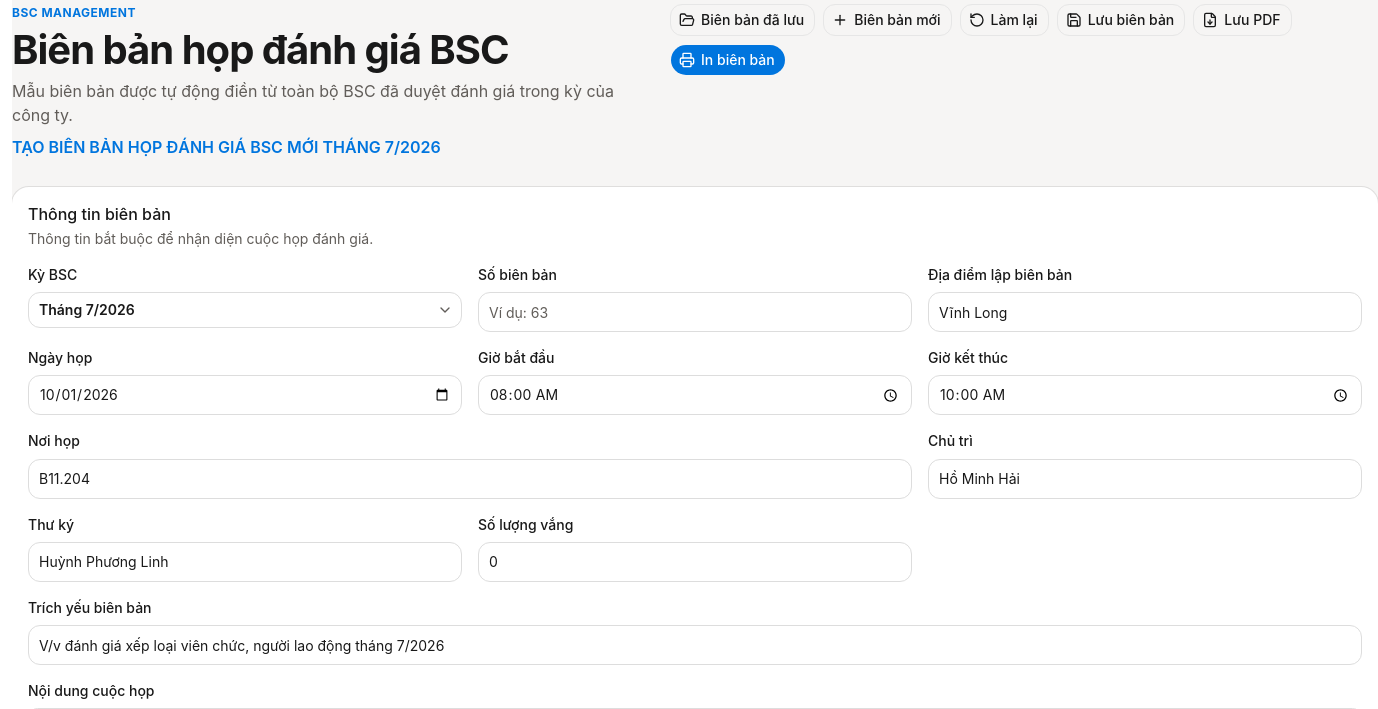
Test case: BscMinutesPage › restores the meeting defaults when resetting the form
Replace the text in the field labelled "Nơi họp" with "Phòng khác". click: (470, 478)
box: [28, 458, 912, 498]
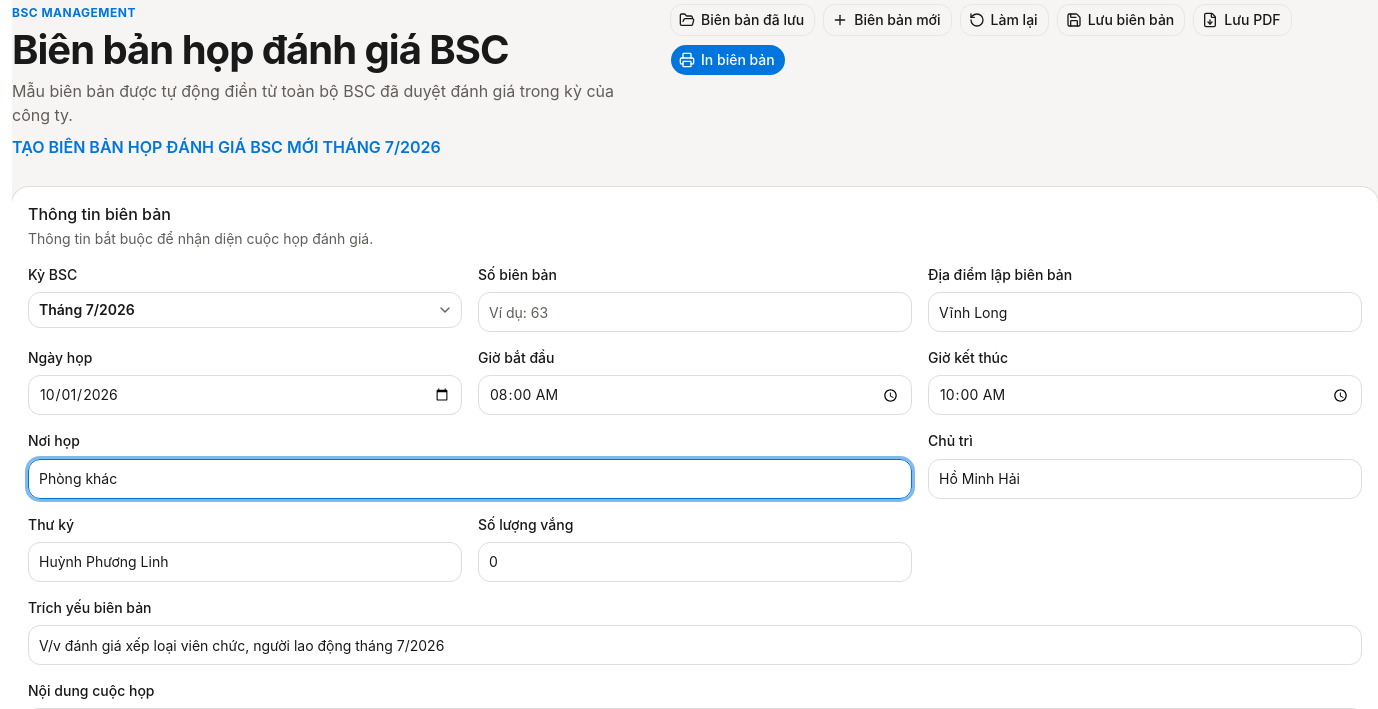
Replace the text in the field labelled "Chủ trì" with "Chủ trì khác". click: (1145, 478)
box: [928, 458, 1362, 498]
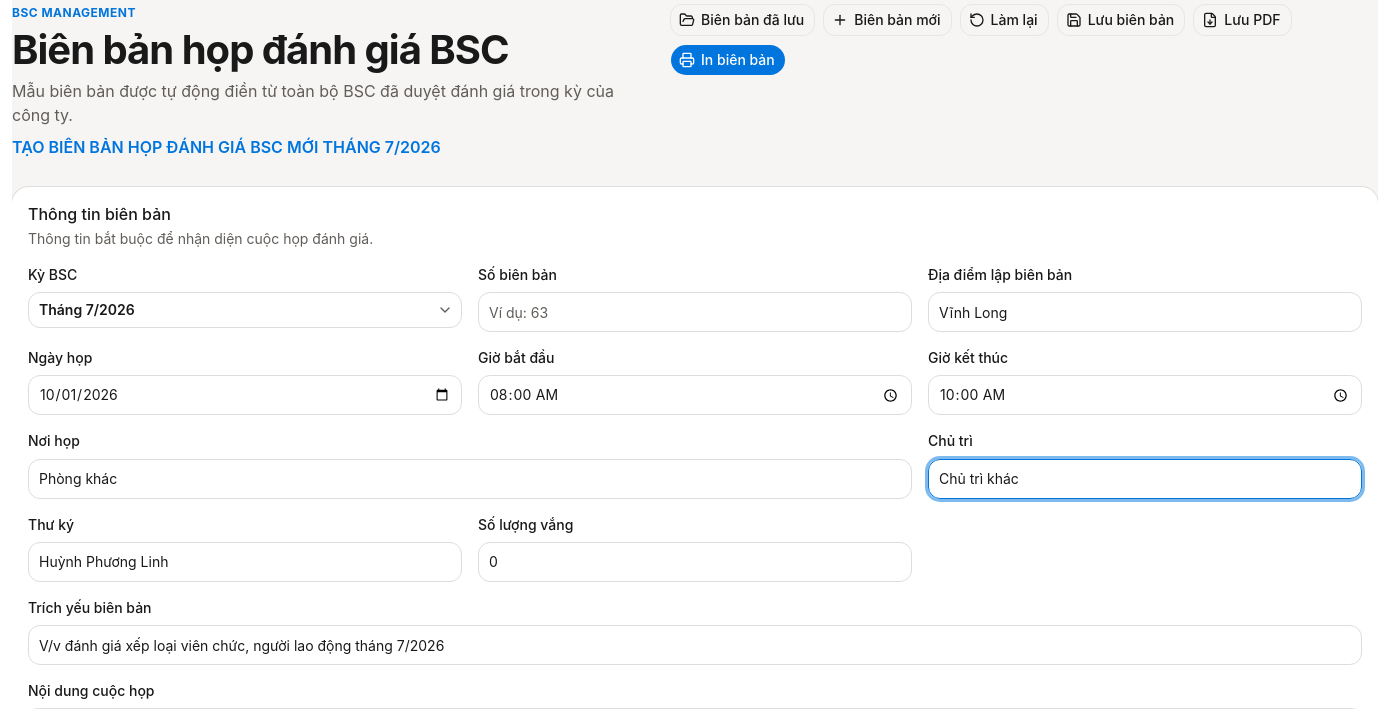
Replace the text in the field labelled "Thư ký" with "Thư ký khác". click: (245, 562)
box: [28, 542, 462, 582]
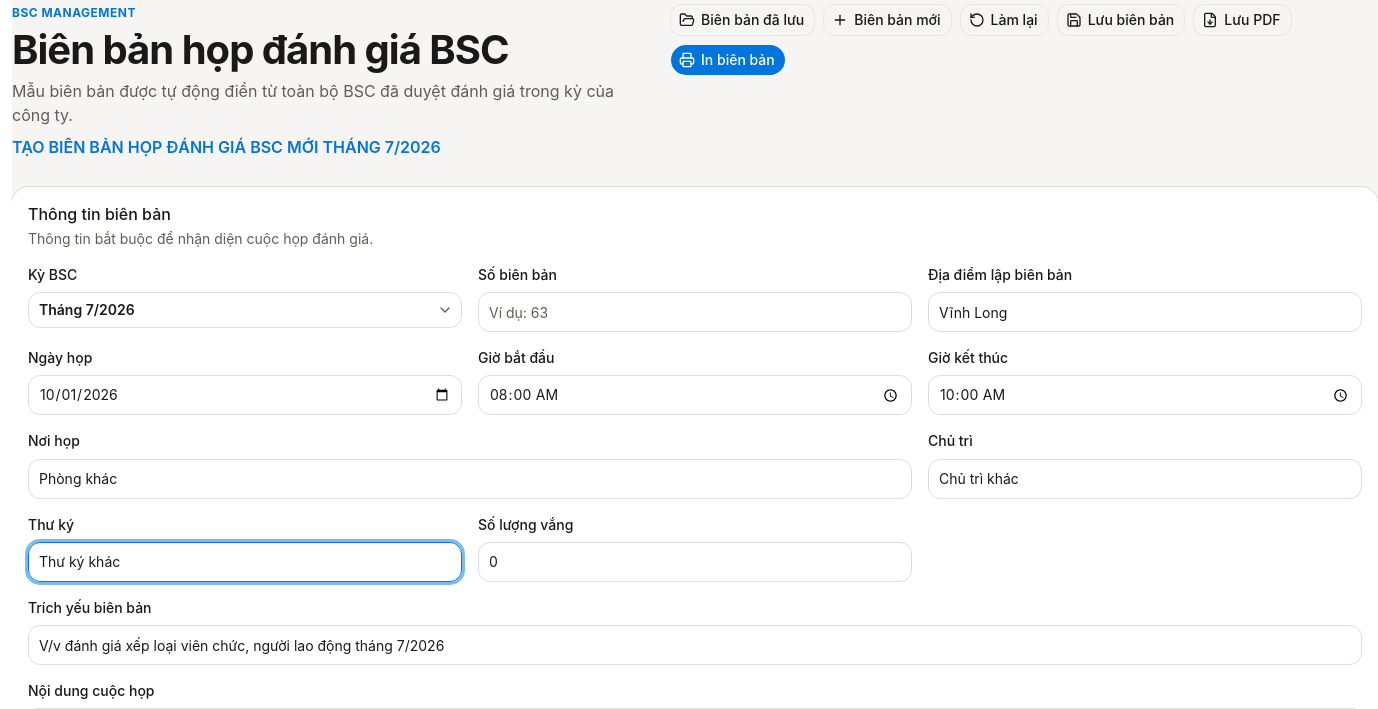
Click the button "Làm lại". click: (1004, 20)
box: [960, 4, 1049, 36]
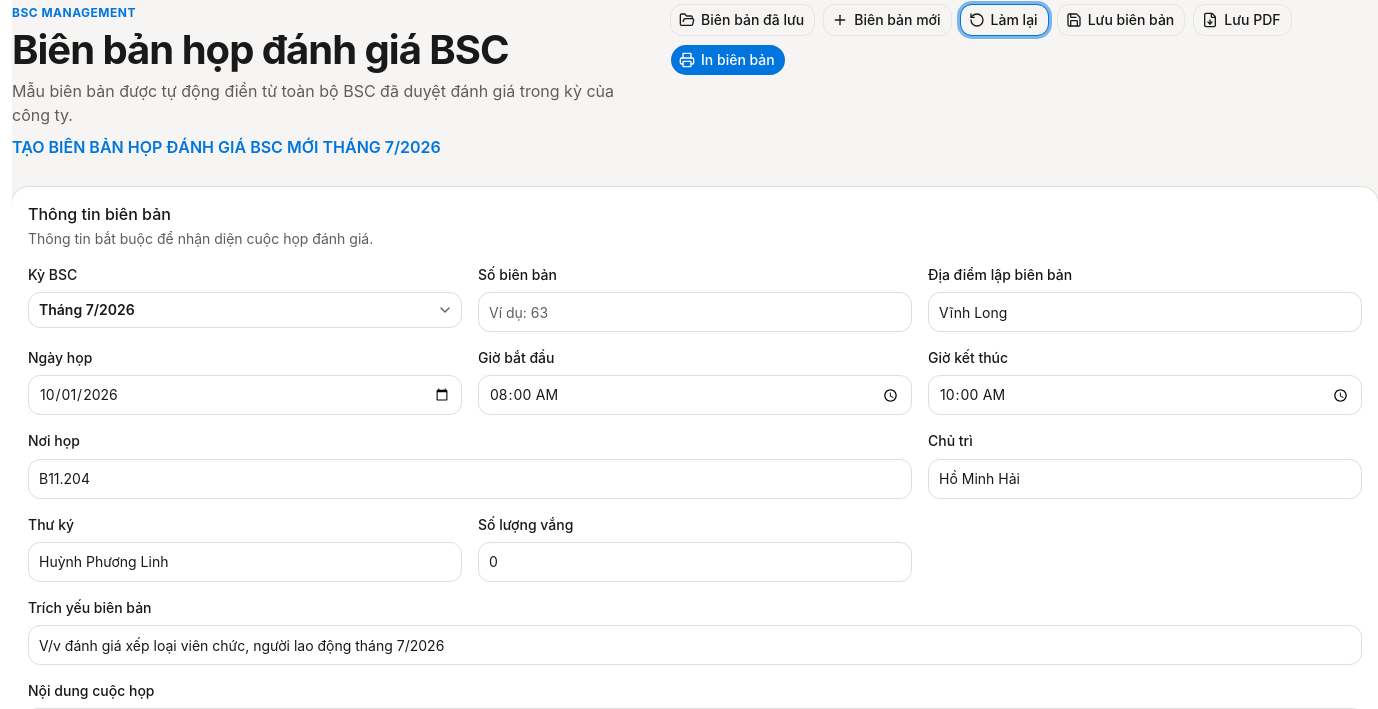
Now the field labelled "Nơi họp" holds "B11.204", box [28, 458, 912, 498]
Now the field labelled "Chủ trì" holds "Hồ Minh Hải", box [928, 458, 1362, 498]
Now the field labelled "Thư ký" holds "Huỳnh Phương Linh", box [28, 542, 462, 582]
